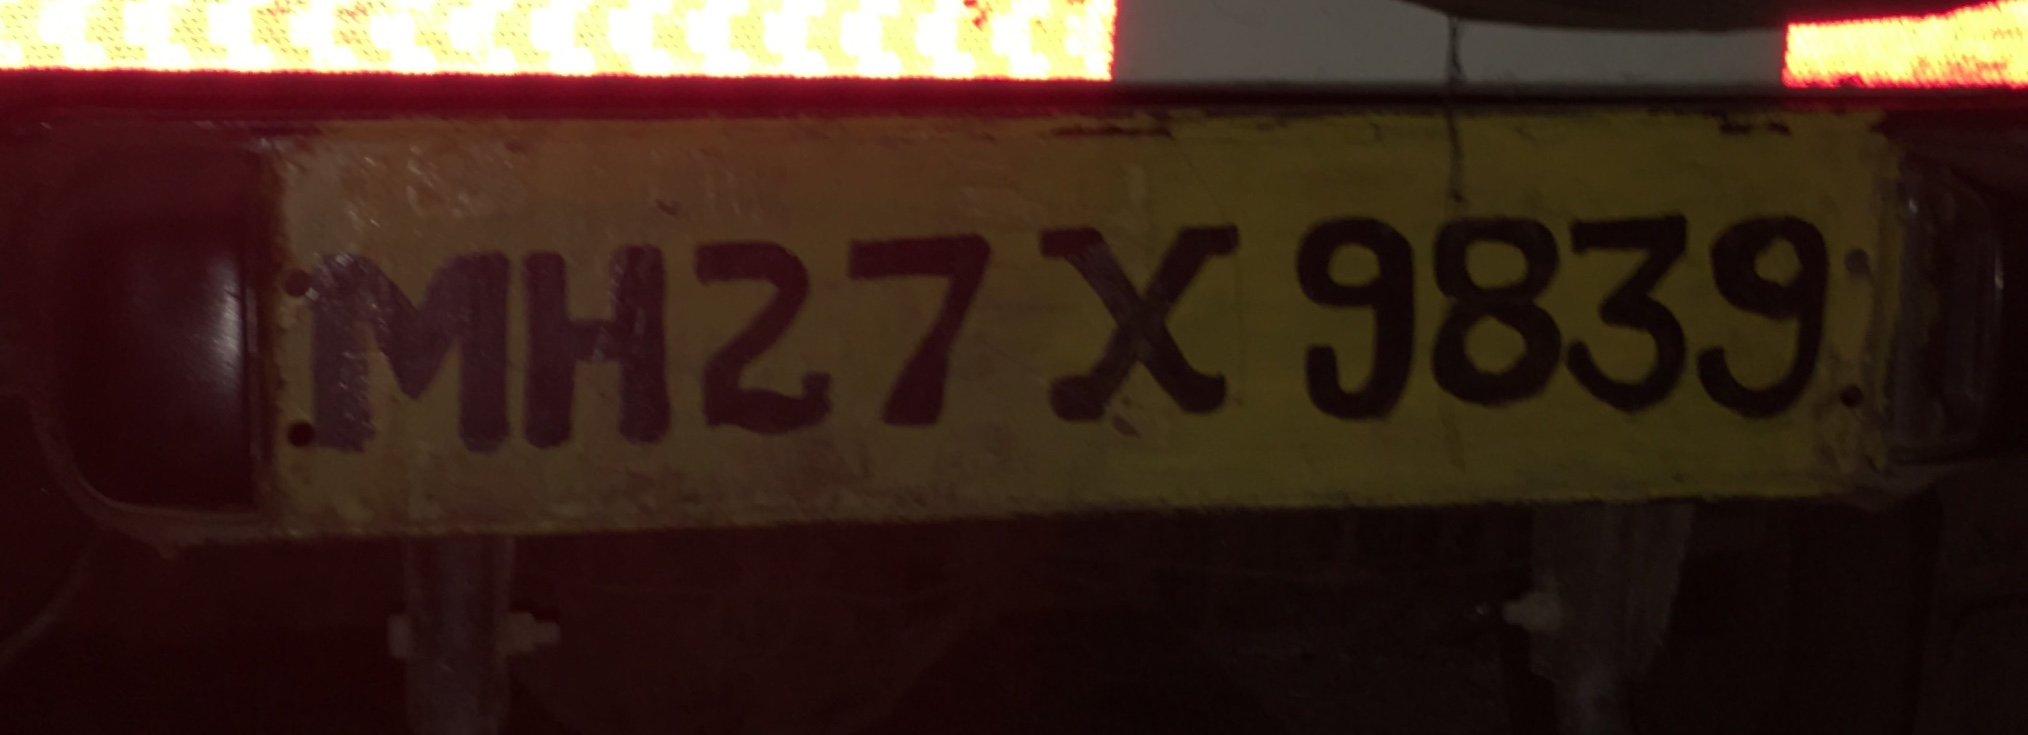numberplate: (254, 95, 1882, 552)
